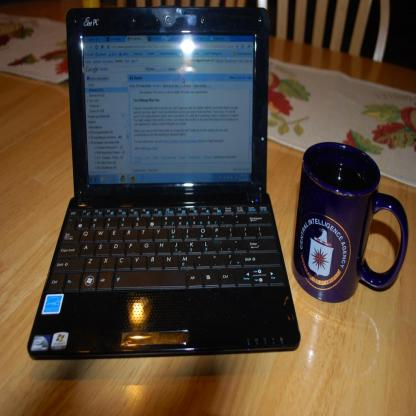board: (27, 3, 301, 360)
